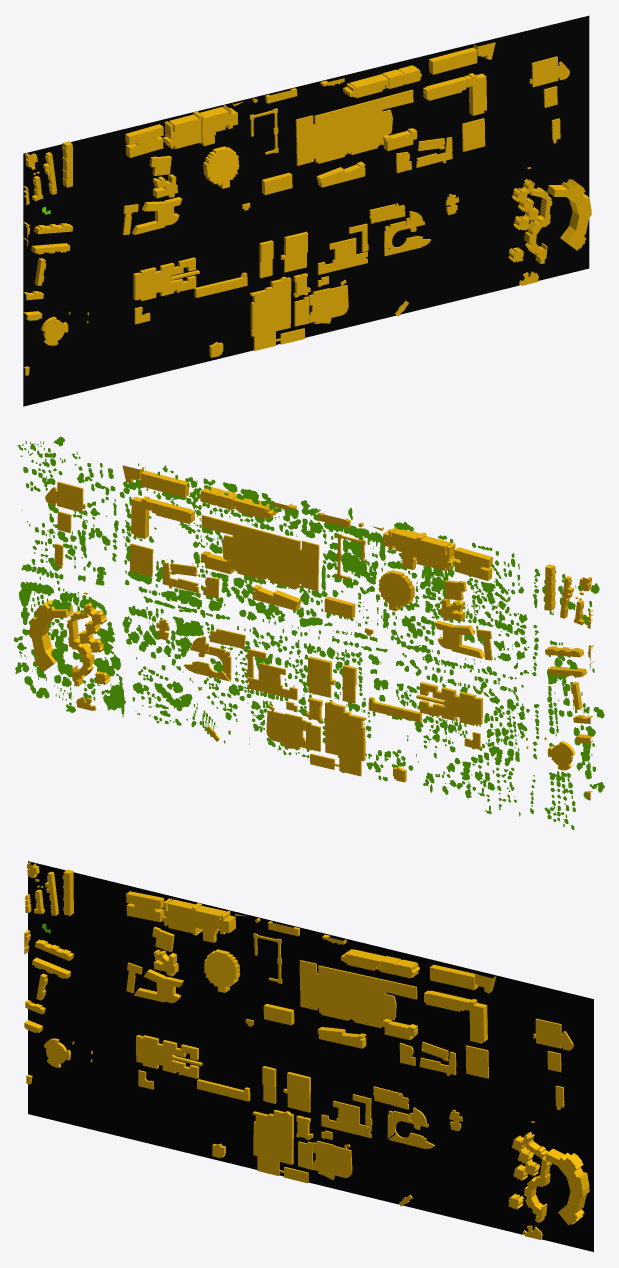
The model's file is new_trees_07.glb.
3 renders of one model, top to bottom at view 1: azimuth 30°, elevation 25°; view 2: azimuth 150°, elevation 25°; view 3: azimuth 330°, elevation 25°, orthographic.
Visible parts, largest first — view 1: Layer 04, existing_building - Copy; view 2: existing_building - Copy, new trees, treesurface; view 3: Layer 04, existing_building - Copy.
Part boxes in pixels (bbox=[...]): Layer 04: bbox=[23, 15, 589, 406]; existing_building - Copy: bbox=[23, 42, 591, 375]; existing_building - Copy: bbox=[29, 465, 593, 800]; new trees: bbox=[19, 441, 599, 828]; treesurface: bbox=[14, 436, 604, 830]; Layer 04: bbox=[28, 861, 593, 1251]; existing_building - Copy: bbox=[24, 862, 589, 1239].
Size of the model in its own units: 1035 by 458 by 20.85.
